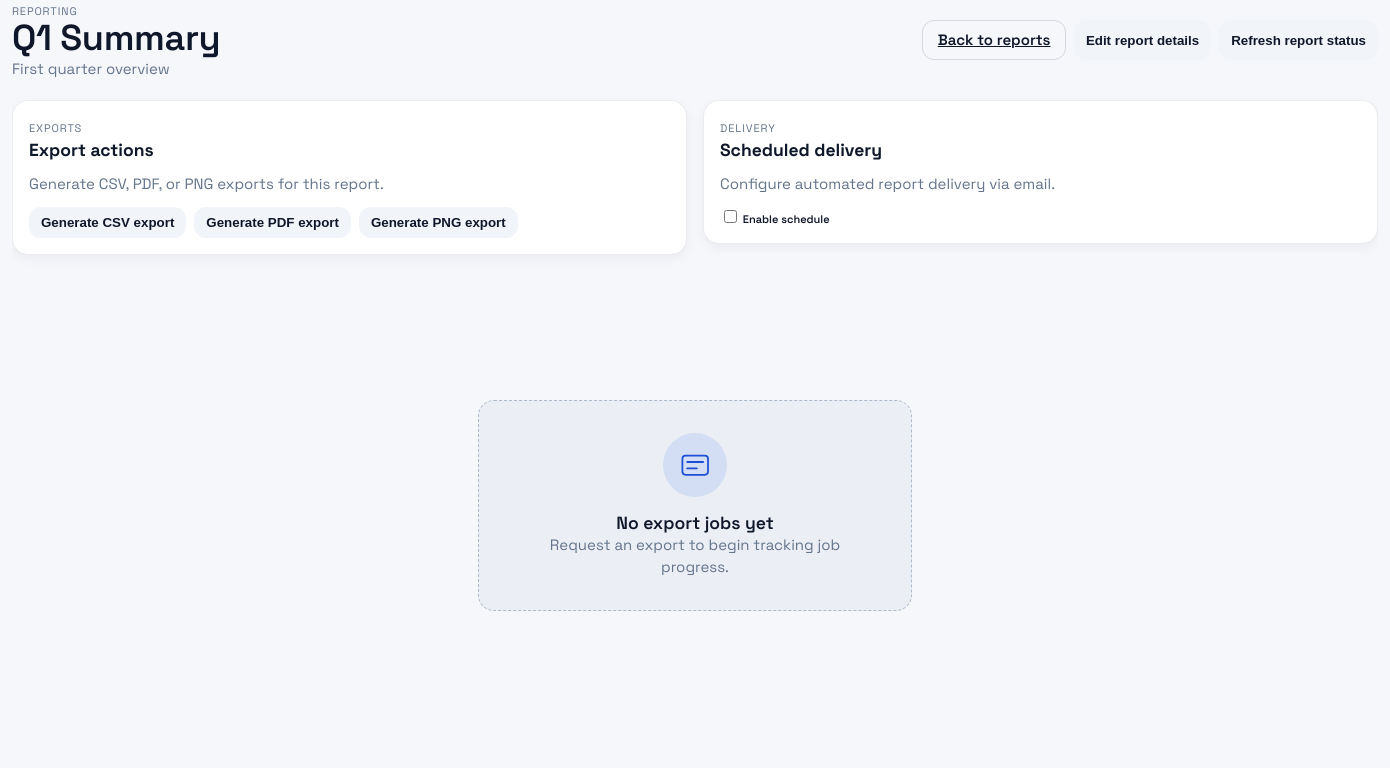
Test: ReportDetailPage inline editing › cancel reverts changes
Check: the heading "Q1 Summary" is shown, box [12,22,220,54]
Click the button "Edit report details" at (1143, 40), box [1074,20,1211,60]
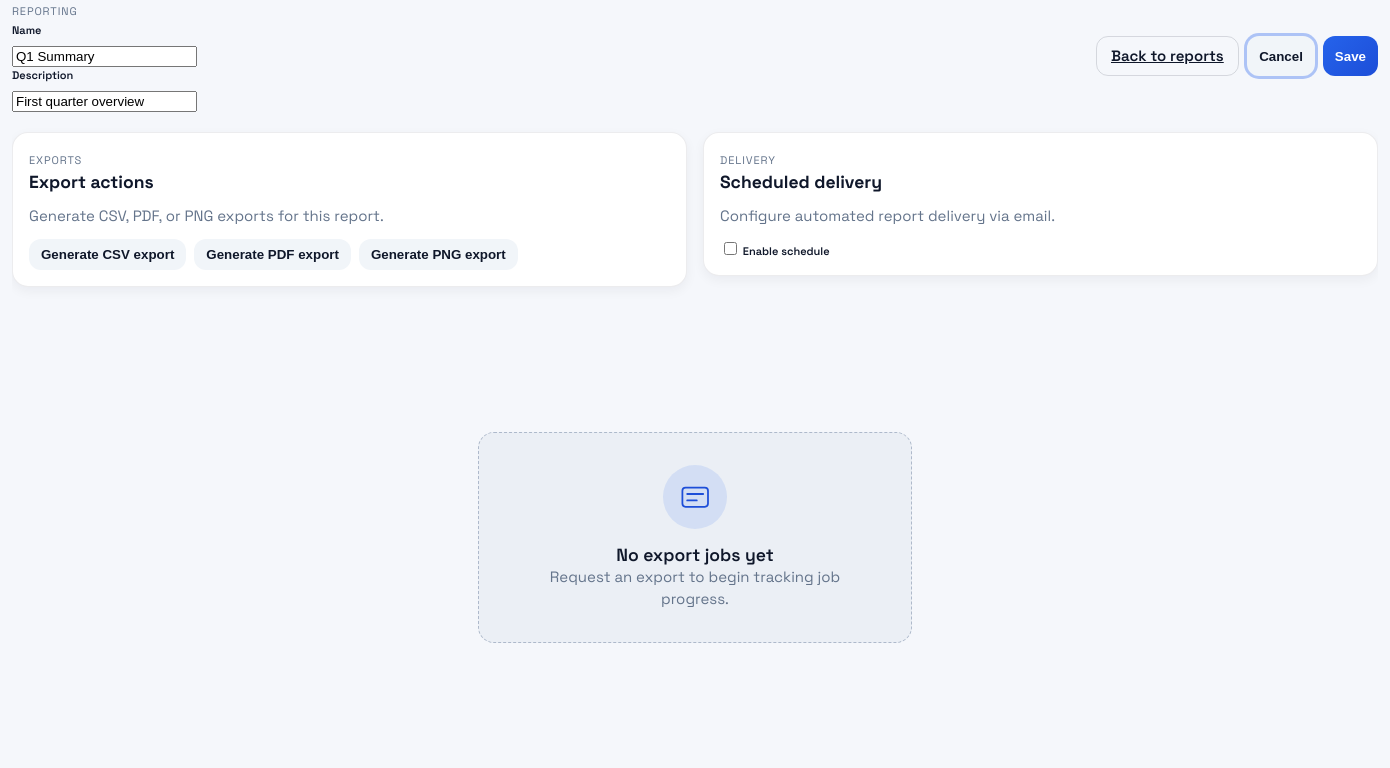
Replace the text in the field labelled "Name" with "Something else" at (104, 56), box [12,46,197,67]
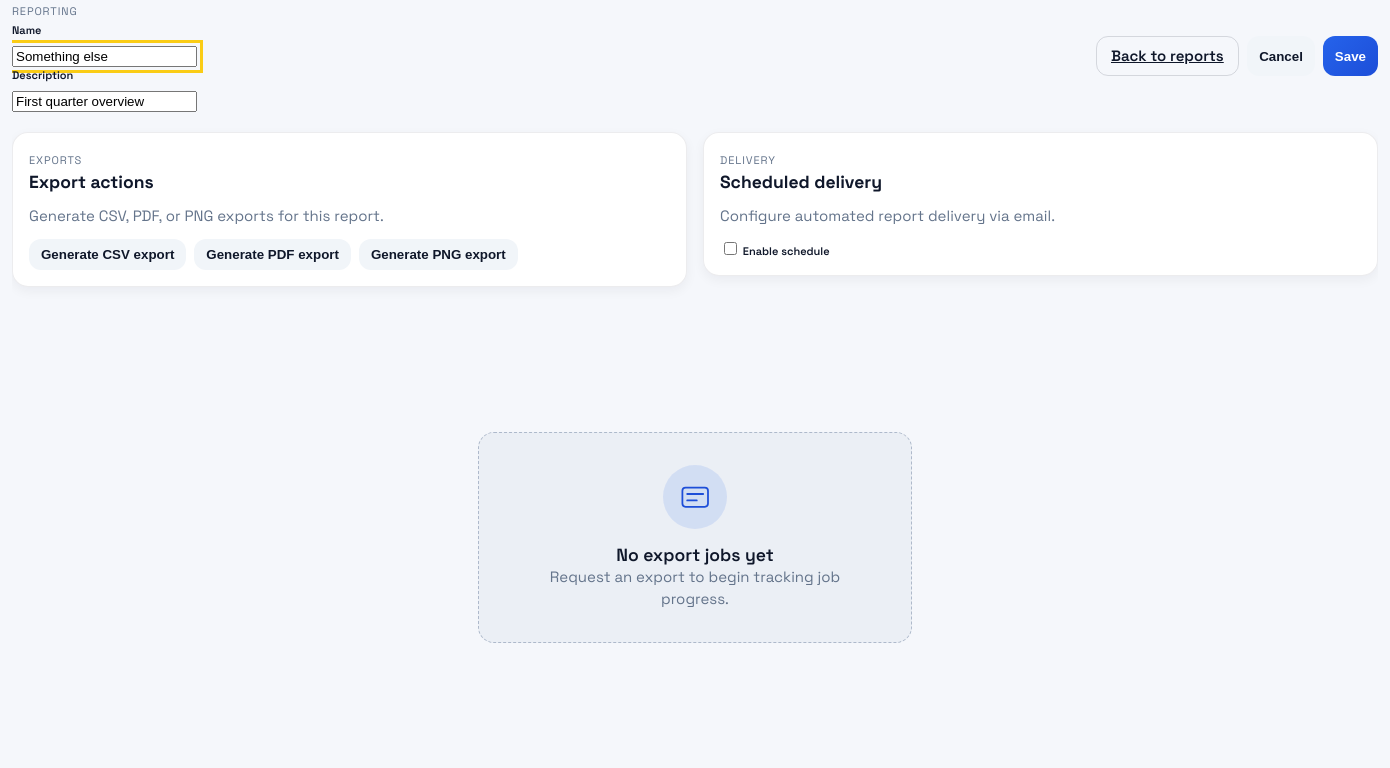
Click the button "Cancel" at (1281, 56), box [1247,36,1315,76]
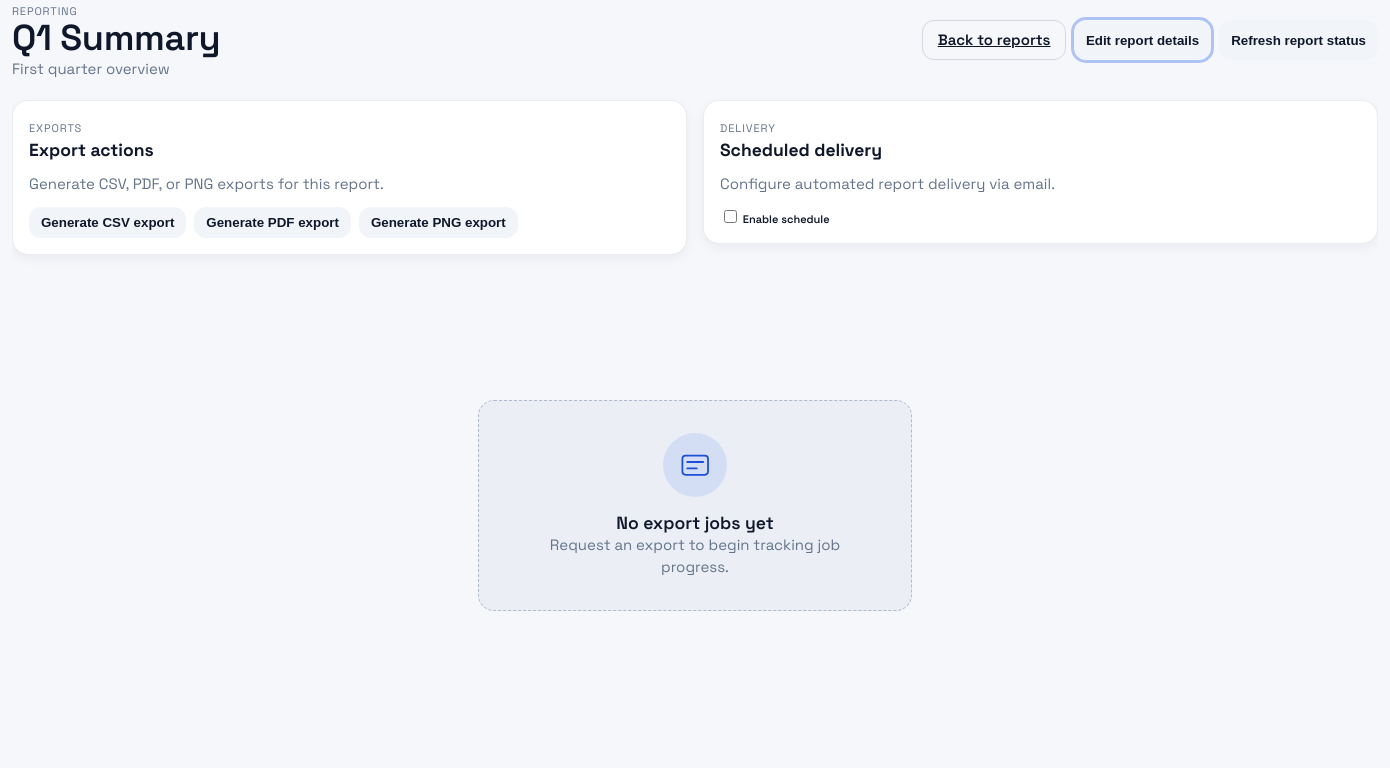
Check: the heading "Q1 Summary" is shown, box [12,22,220,54]
Check: the text labelled "Name" is gone
